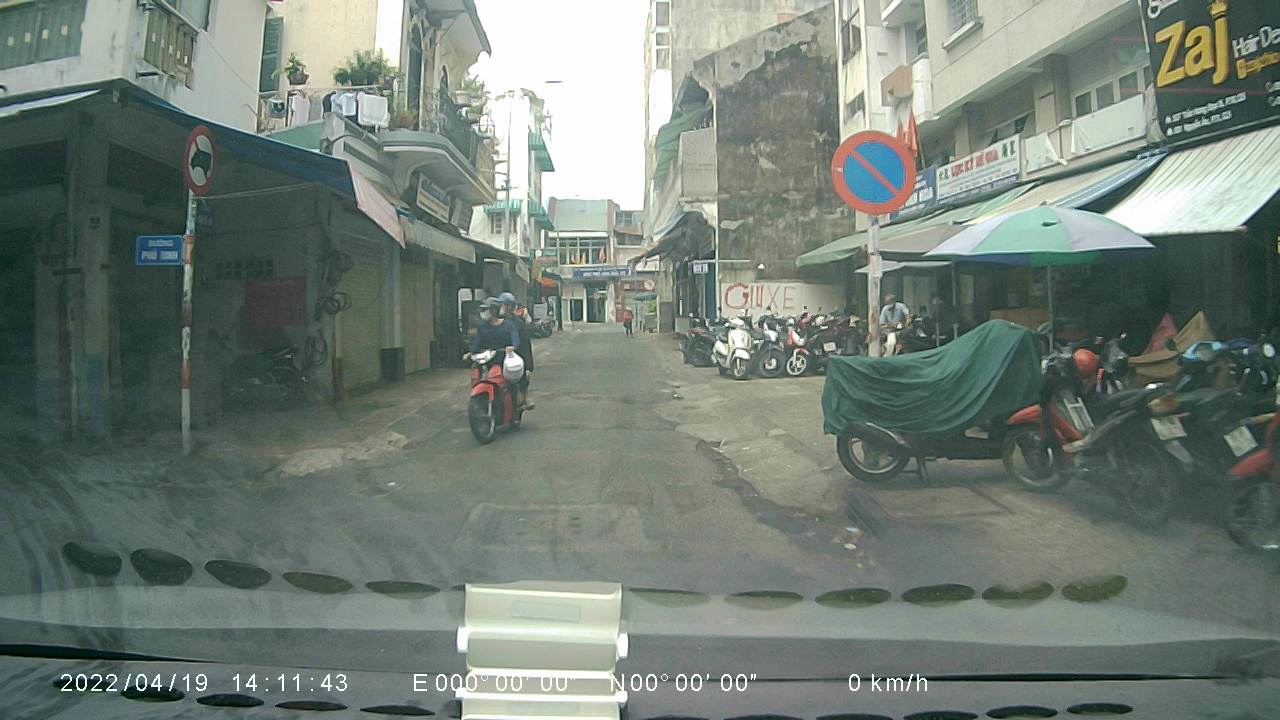Cam do xe: (829, 127, 917, 214)
